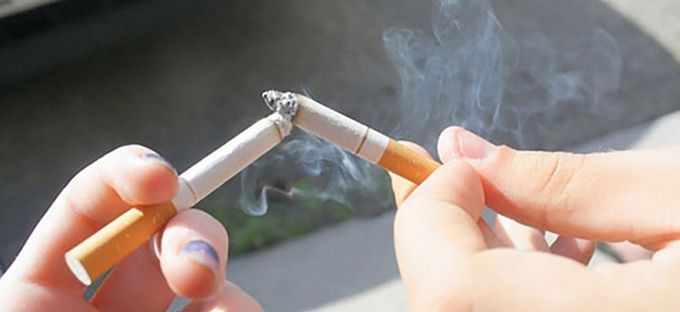sigaretta: (79, 95, 267, 288), (267, 83, 459, 195)
